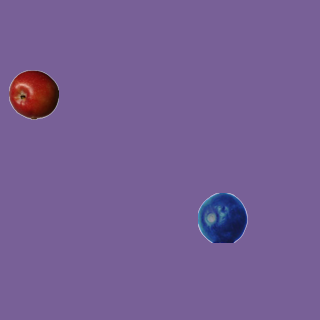Apple Braeburn: (8, 69, 58, 119)
Huckleberry: (197, 192, 247, 242)
